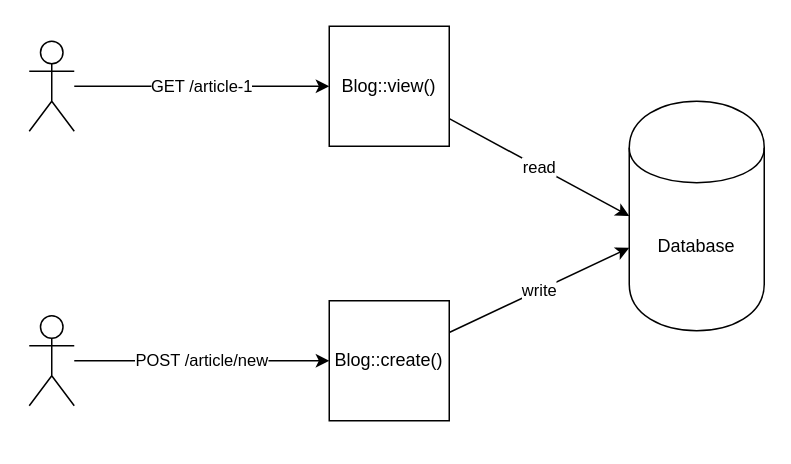
This 791x464 diagram has some shape labels left out. Here are the shapes that lost their labels. From the top down, the centre of each, then its label:
(51,85): User
(51,360): Admin
